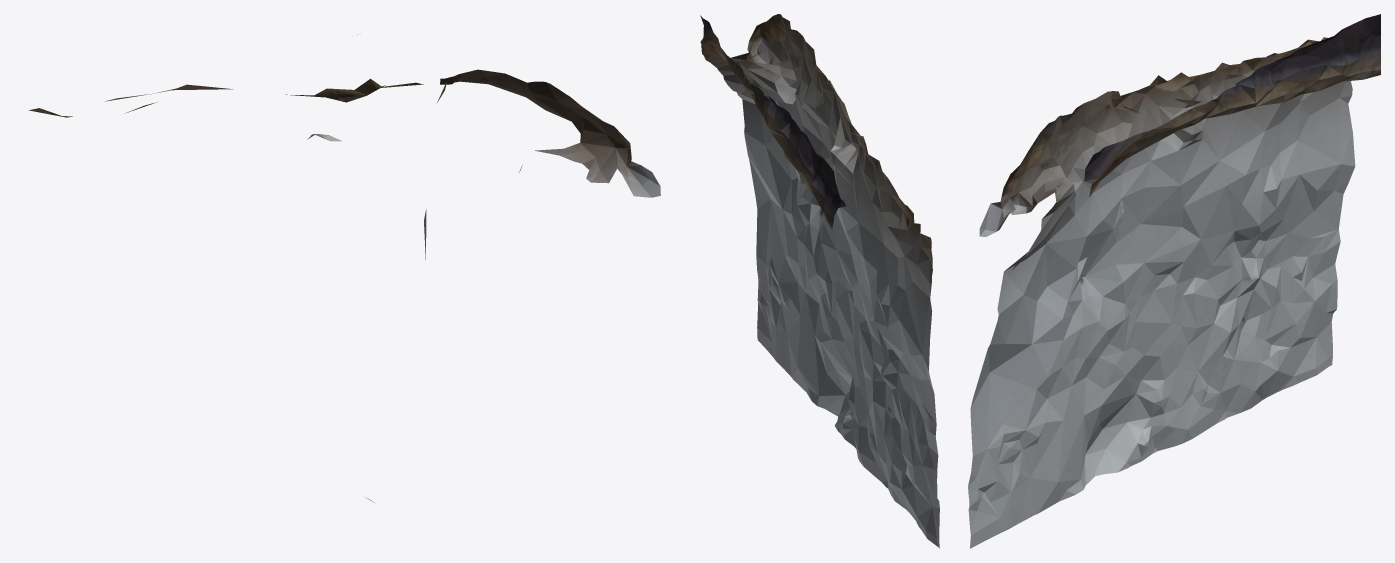
3 renders of one model, left to right at view 1: azimuth 30°, elevation 25°; view 2: azimuth 150°, elevation 25°; view 3: azimuth 270°, elevation 25°, orthographic. The views are drawn at different scales.
Bounding box in the file's own units: 0.8374 × 0.8374 × 0.7949.
Materials: 4 (4 with a texture image).
